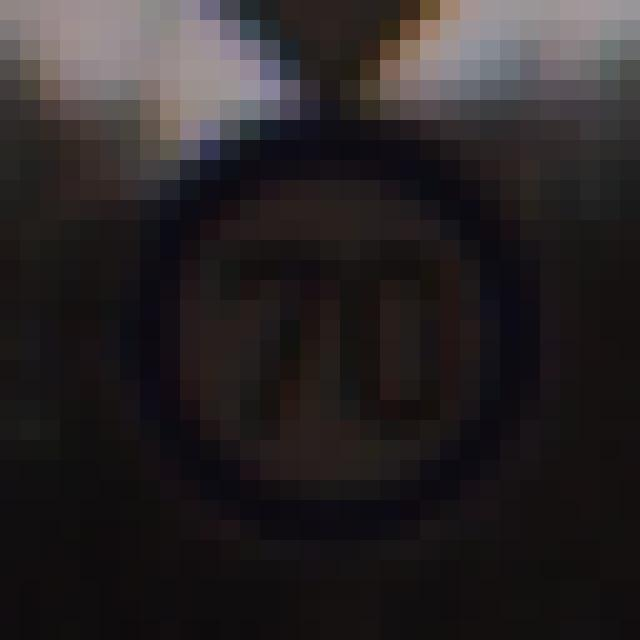SPEED LIMIT 70: (128, 123, 546, 547)
